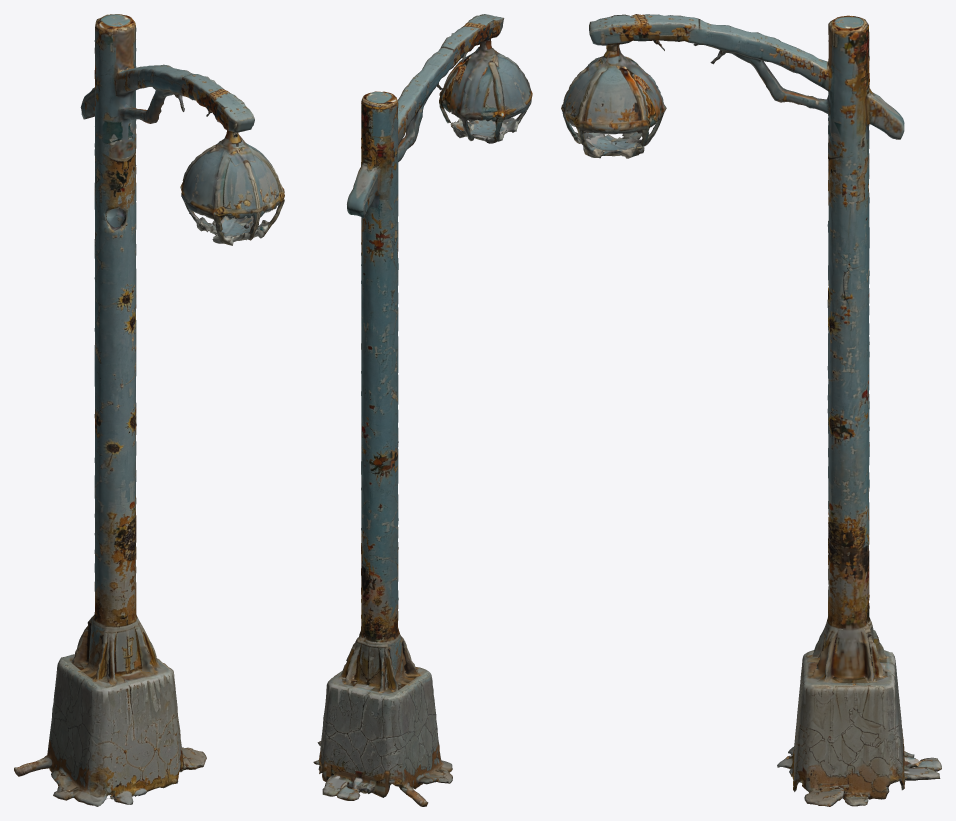
Rendered from Prop_StreetLamp.glb.
The picture shows the model from 3 angles, left to right: view 1: azimuth 30°, elevation 25°; view 2: azimuth 150°, elevation 25°; view 3: azimuth 270°, elevation 25°; orthographic projection. The views are drawn at different scales.
Parts seen in each view (by area): view 1: texture_mapping; view 2: texture_mapping; view 3: texture_mapping.
Boxes of the visible parts, x1=… form: texture_mapping: x1=14, y1=14, x2=284, y2=806; texture_mapping: x1=313, y1=14, x2=532, y2=806; texture_mapping: x1=561, y1=14, x2=941, y2=806.
Bounding box in the file's own units: 0.2131 × 0.9969 × 0.453.
1 material, 1 textured.
